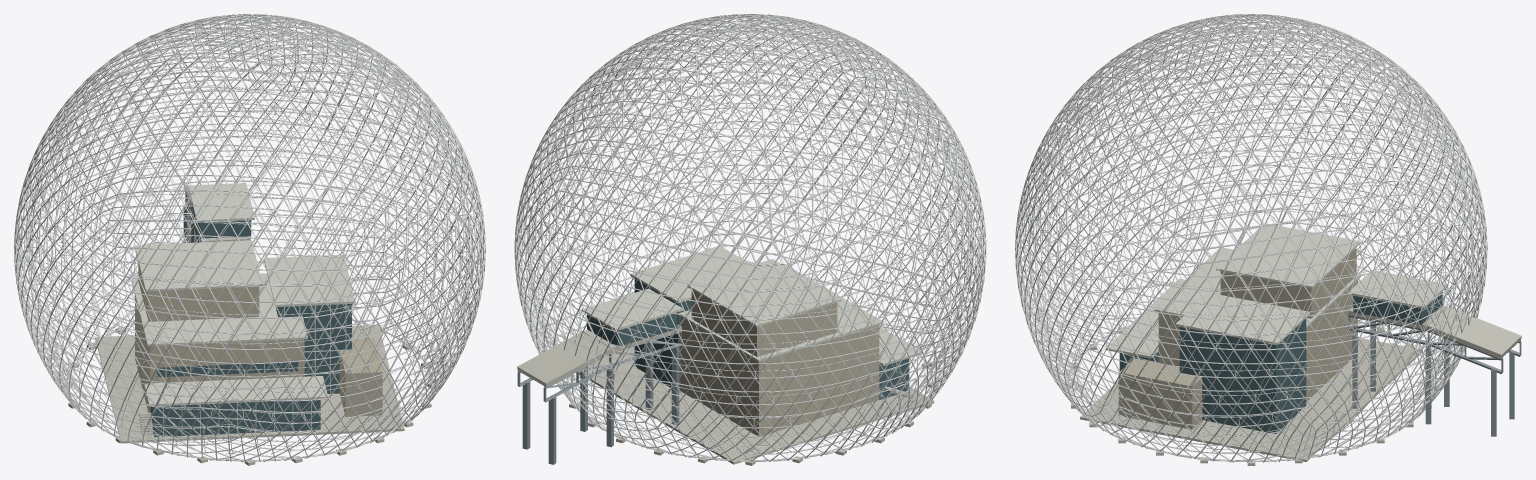
The model's file is biosphere-montreal-near.glb.
3 renders of one model, left to right at view 1: azimuth 30°, elevation 25°; view 2: azimuth 150°, elevation 25°; view 3: azimuth 270°, elevation 25°, orthographic.
Visible parts, largest first — view 1: biosphere-montreal-0-lattice, biosphere-montreal-0-roof, biosphere-montreal-0-museum, biosphere-montreal-0-glass, biosphere-montreal-0-concrete; view 2: biosphere-montreal-0-lattice, biosphere-montreal-0-museum, biosphere-montreal-0-roof, biosphere-montreal-0-concrete, biosphere-montreal-0-rail, biosphere-montreal-0-glass; view 3: biosphere-montreal-0-lattice, biosphere-montreal-0-roof, biosphere-montreal-0-concrete, biosphere-montreal-0-museum, biosphere-montreal-0-glass, biosphere-montreal-0-rail.
Boxes of the visible parts, bbox=[...] form: biosphere-montreal-0-lattice: bbox=[14, 14, 485, 462]; biosphere-montreal-0-roof: bbox=[131, 183, 355, 406]; biosphere-montreal-0-museum: bbox=[135, 264, 382, 416]; biosphere-montreal-0-glass: bbox=[150, 203, 351, 437]; biosphere-montreal-0-concrete: bbox=[64, 186, 436, 465]; biosphere-montreal-0-lattice: bbox=[514, 14, 986, 461]; biosphere-montreal-0-museum: bbox=[680, 290, 879, 436]; biosphere-montreal-0-roof: bbox=[581, 246, 922, 365]; biosphere-montreal-0-concrete: bbox=[517, 324, 938, 465]; biosphere-montreal-0-rail: bbox=[517, 331, 681, 464]; biosphere-montreal-0-glass: bbox=[587, 279, 909, 399]; biosphere-montreal-0-lattice: bbox=[1015, 14, 1487, 462]; biosphere-montreal-0-roof: bbox=[1106, 223, 1447, 358]; biosphere-montreal-0-concrete: bbox=[1065, 306, 1521, 465]; biosphere-montreal-0-museum: bbox=[1118, 247, 1357, 429]; biosphere-montreal-0-glass: bbox=[1119, 292, 1442, 433]; biosphere-montreal-0-rail: bbox=[1348, 315, 1521, 436].
Size of the model in its own units: 76.21 by 62.41 by 81.71.
